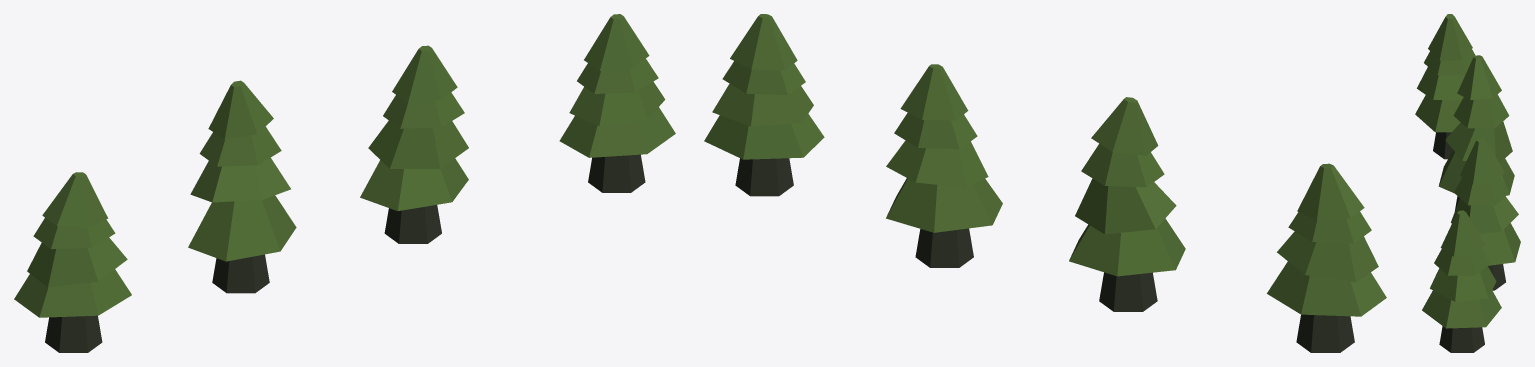
The model's file is trees.fbx.
3 renders of one model, left to right at view 1: azimuth 30°, elevation 25°; view 2: azimuth 150°, elevation 25°; view 3: azimuth 270°, elevation 25°, orthographic. The views are drawn at different scales.
Visible parts, largest first — view 1: Cylinder.005, Cylinder.010, Cylinder, Cylinder.015; view 2: Cylinder.005, Cylinder.010, Cylinder, Cylinder.015; view 3: Cylinder.015, Cylinder.010, Cylinder.005, Cylinder.
Part boxes in pixels (left/top/right/bottom): Cylinder.005: left=188, top=80, right=296, bottom=293; Cylinder.010: left=360, top=45, right=468, bottom=243; Cylinder: left=14, top=172, right=131, bottom=352; Cylinder.015: left=559, top=14, right=675, bottom=192; Cylinder.005: left=1069, top=97, right=1185, bottom=311; Cylinder.010: left=886, top=64, right=1002, bottom=267; Cylinder: left=1267, top=163, right=1386, bottom=352; Cylinder.015: left=704, top=14, right=824, bottom=196; Cylinder.015: left=1422, top=210, right=1501, bottom=352; Cylinder.010: left=1451, top=138, right=1520, bottom=290; Cylinder.005: left=1438, top=55, right=1514, bottom=210; Cylinder: left=1415, top=14, right=1475, bottom=159.
Bounding box in the file's own units: 2582 × 789 × 463.
